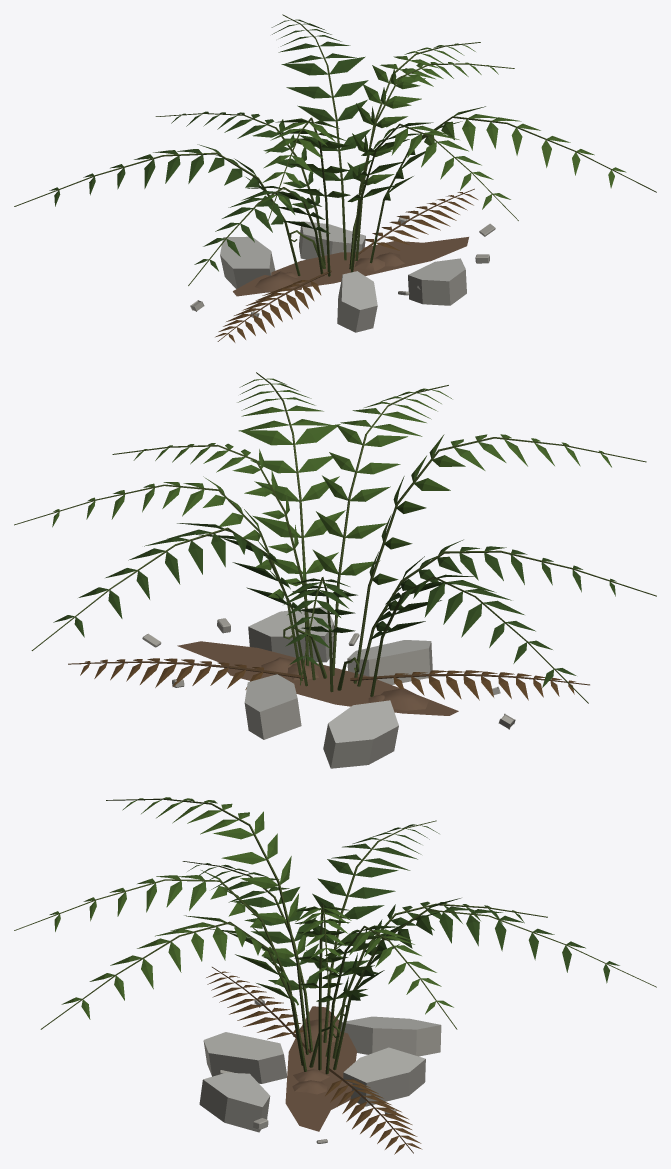
File: fern_cluster.glb
3 views of the same model, one above another, from view 1: azimuth 30°, elevation 25°; view 2: azimuth 150°, elevation 25°; view 3: azimuth 270°, elevation 25° (orthographic). The views are drawn at different scales.
Parts seen in each view (by area): view 1: teil5, teil6, teil4, teil2, teil3, teil0, teil8, teil1, teil7; view 2: teil5, teil6, teil4, teil2, teil3, teil0, teil8, teil1, teil7; view 3: teil5, teil6, teil2, teil4, teil3, teil0, teil8, teil1.
Part boxes in pixels (<box>): teil5: <box>261,43,626,209</box>; teil6: <box>49,19,371,271</box>; teil4: <box>14,14,656,285</box>; teil2: <box>190,215,495,332</box>; teil3: <box>220,221,465,309</box>; teil0: <box>233,237,468,296</box>; teil8: <box>215,192,477,342</box>; teil1: <box>255,252,404,292</box>; teil7: <box>217,188,474,341</box>; teil5: <box>52,378,611,598</box>; teil6: <box>53,523,616,687</box>; teil4: <box>14,372,656,703</box>; teil2: <box>142,618,515,768</box>; teil3: <box>244,607,431,742</box>; teil0: <box>177,641,458,715</box>; teil8: <box>80,658,575,700</box>; teil1: <box>261,657,428,710</box>; teil7: <box>68,661,589,685</box>; teil5: <box>49,797,453,1019</box>; teil6: <box>187,824,619,1000</box>; teil2: <box>199,980,441,1143</box>; teil4: <box>14,798,656,1074</box>; teil3: <box>203,1016,440,1106</box>; teil0: <box>285,1006,356,1131</box>; teil8: <box>206,971,422,1154</box>; teil1: <box>292,1018,344,1094</box>.
Size of the model in its own units: 1.49 by 0.6407 by 1.59.
